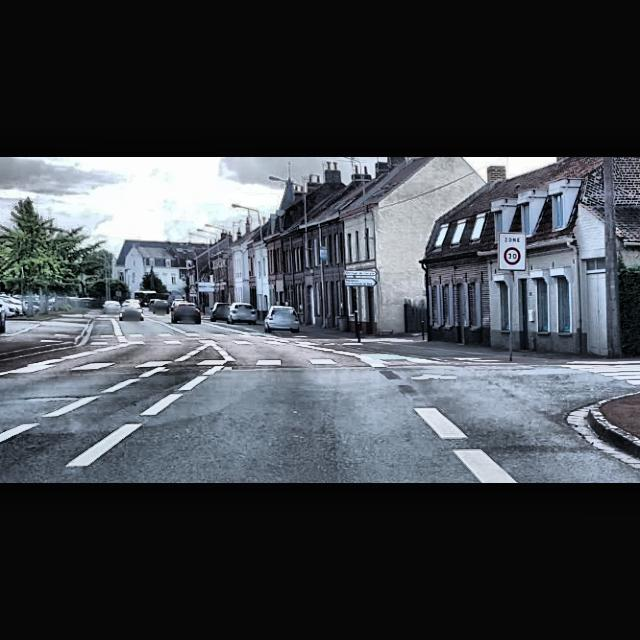speed_30: (504, 247, 520, 266)
